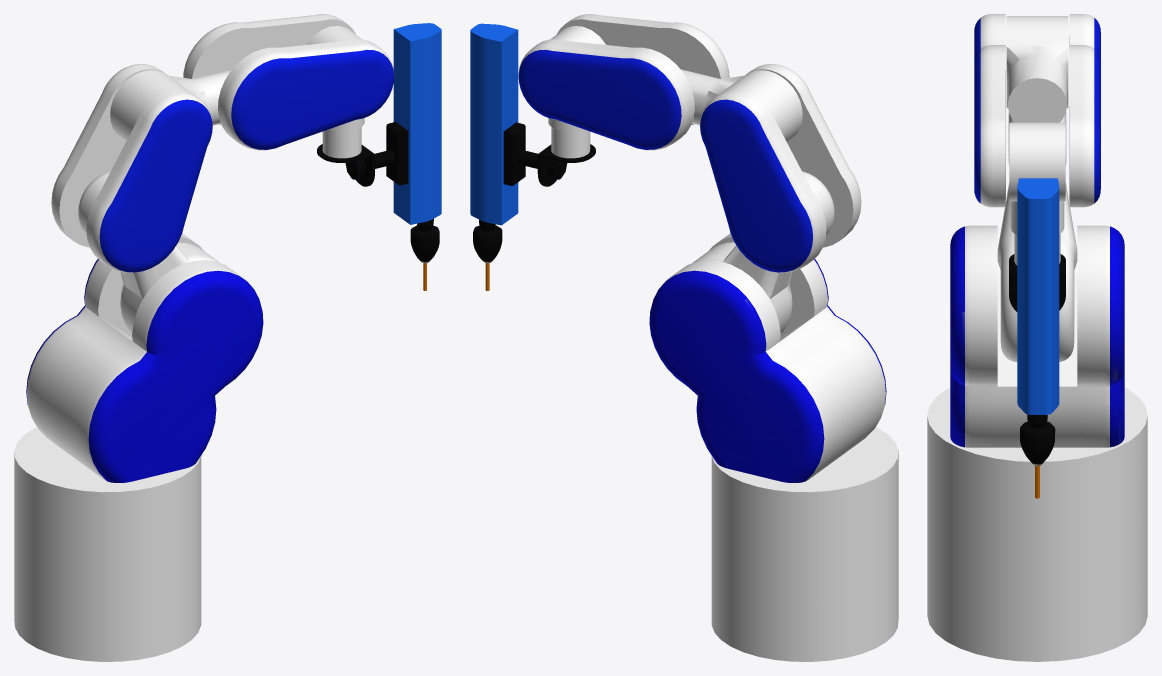
File: manipulator.fbx
3 renders of one model, left to right at view 1: azimuth 30°, elevation 25°; view 2: azimuth 150°, elevation 25°; view 3: azimuth 270°, elevation 25°, orthographic. The views are drawn at different scales.
Parts seen in each view (by area): view 1: Cylinder.011, Cylinder, Cylinder.004, Cylinder.002, Cylinder.007, Cylinder.005, Cylinder.003, Cylinder.001; view 2: Cylinder.011, Cylinder, Cylinder.004, Cylinder.002, Cylinder.007, Cylinder.005, Cylinder.003, Cylinder.001; view 3: Cylinder, Cylinder.011, Cylinder.007, Cylinder.002, Cylinder.005, Cylinder.003, Cylinder.004, Cylinder.001.
Boxes of the visible parts, left/top/right/bottom form: Cylinder.011: left=26, top=233, right=263, bottom=482; Cylinder: left=14, top=427, right=201, bottom=661; Cylinder.004: left=51, top=64, right=212, bottom=272; Cylinder.002: left=183, top=14, right=394, bottom=150; Cylinder.007: left=307, top=23, right=441, bottom=224; Cylinder.005: left=110, top=69, right=231, bottom=141; Cylinder.003: left=78, top=171, right=219, bottom=333; Cylinder.001: left=410, top=218, right=439, bottom=290; Cylinder.011: left=649, top=233, right=886, bottom=482; Cylinder: left=711, top=427, right=898, bottom=661; Cylinder.004: left=700, top=64, right=861, bottom=272; Cylinder.002: left=518, top=14, right=729, bottom=150; Cylinder.007: left=470, top=23, right=605, bottom=225; Cylinder.005: left=681, top=69, right=802, bottom=141; Cylinder.003: left=693, top=171, right=834, bottom=333; Cylinder.001: left=473, top=220, right=502, bottom=290; Cylinder: left=927, top=387, right=1147, bottom=661; Cylinder.011: left=950, top=225, right=1124, bottom=447; Cylinder.007: left=1009, top=122, right=1065, bottom=414; Cylinder.002: left=974, top=45, right=1100, bottom=207; Cylinder.005: left=1006, top=16, right=1068, bottom=122; Cylinder.003: left=997, top=112, right=1077, bottom=361; Cylinder.004: left=974, top=14, right=1100, bottom=198; Cylinder.001: left=1020, top=414, right=1055, bottom=498.
Bounding box in the file's own units: 508 × 647 × 200.
7 materials, 5 textured.
